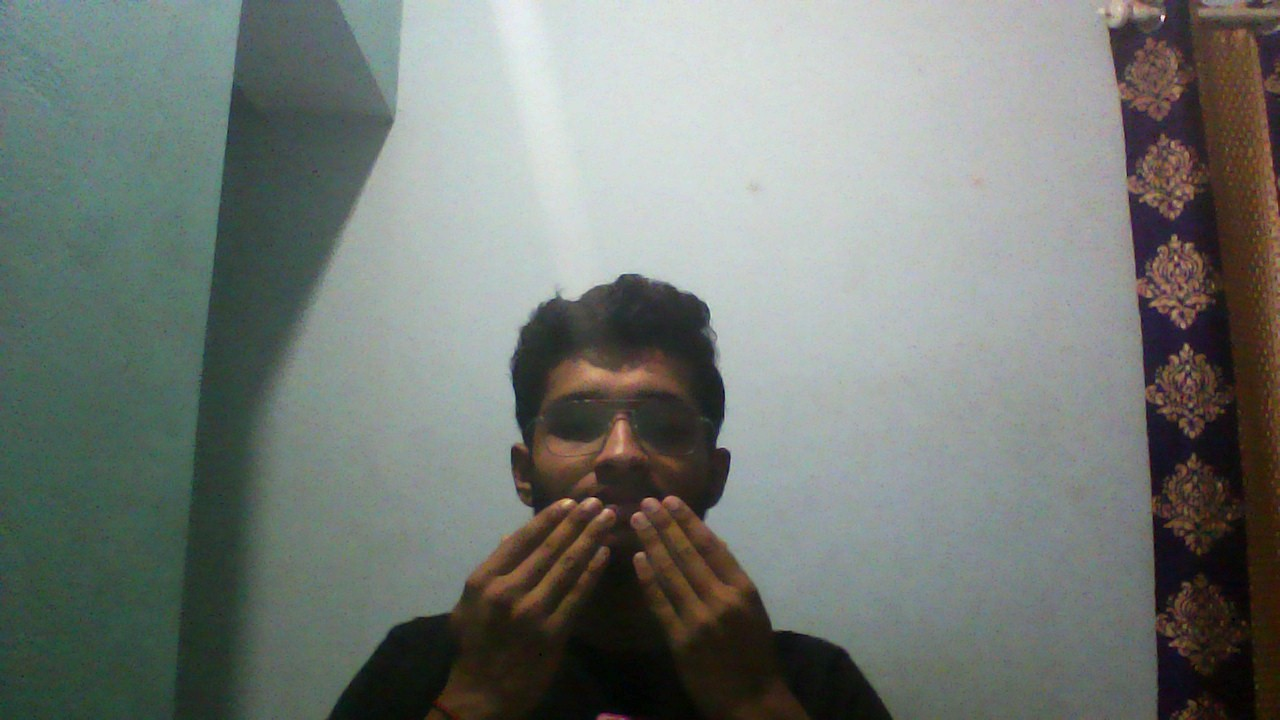Thanks: (429, 496, 839, 690)
